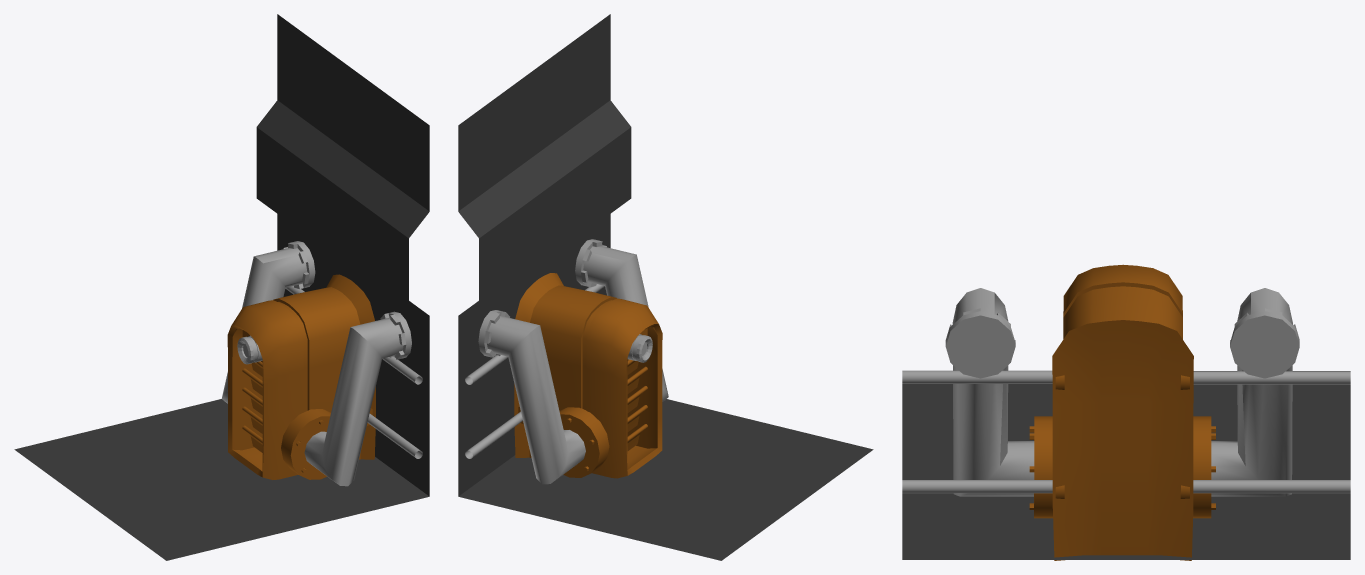
Rendered from Reactor_Cooling.FBX.
3 renders of one model, left to right at view 1: azimuth 30°, elevation 25°; view 2: azimuth 150°, elevation 25°; view 3: azimuth 270°, elevation 25°, orthographic. The views are drawn at different scales.
Parts seen in each view (by area): view 1: Plane004, Cylinder010; view 2: Plane004, Cylinder010; view 3: Plane004, Cylinder010.
Part boxes in pixels (x1,y1,x2,y2): Plane004: [14, 14, 429, 560]; Cylinder010: [221, 241, 422, 486]; Plane004: [458, 14, 873, 560]; Cylinder010: [465, 239, 668, 484]; Plane004: [902, 264, 1350, 560]; Cylinder010: [902, 288, 1350, 496].
Size of the model in its own units: 200 by 272 by 200.
